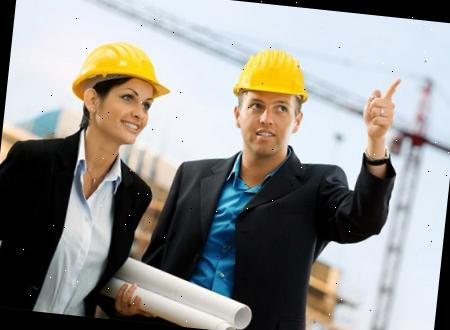helmet: (66, 36, 174, 102), (229, 40, 313, 103)
no_wear: (0, 149, 150, 321), (166, 154, 335, 302)
